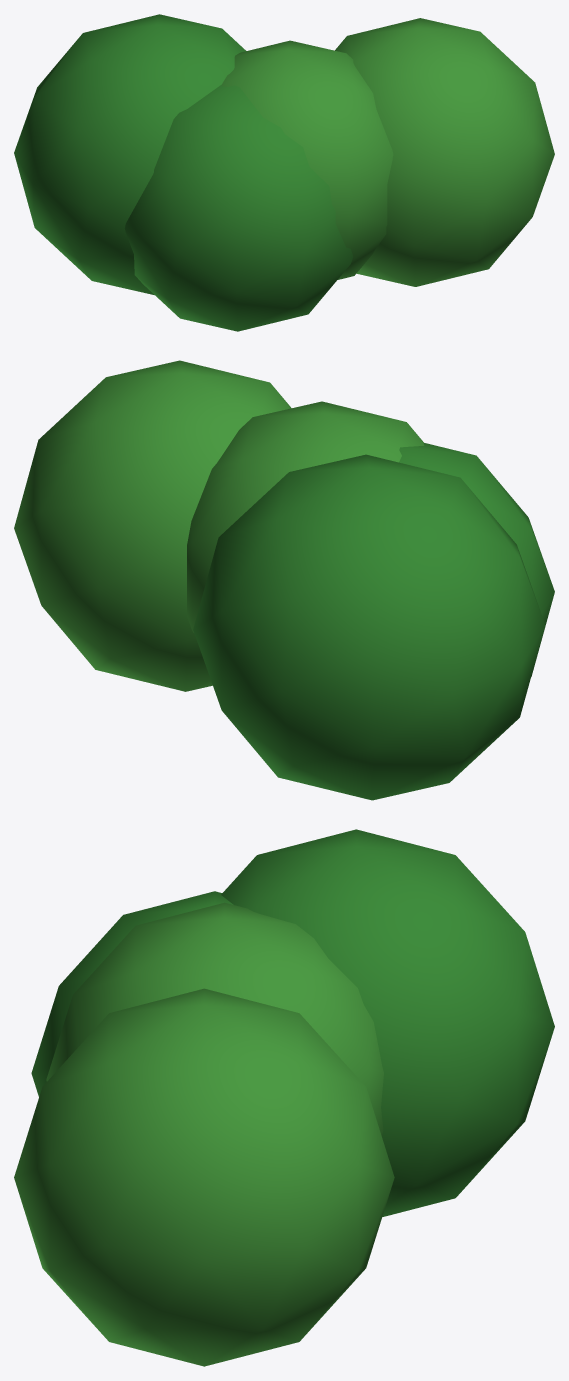
File: bush.glb
The picture shows the model from 3 angles, top to bottom: view 1: azimuth 30°, elevation 25°; view 2: azimuth 150°, elevation 25°; view 3: azimuth 270°, elevation 25°; orthographic projection. The views are drawn at different scales.
Visible parts, largest first — view 1: farm_bush; view 2: farm_bush; view 3: farm_bush.
Part boxes in pixels (x1,y1,x2,y2): farm_bush: (14, 14, 554, 331); farm_bush: (14, 360, 554, 800); farm_bush: (14, 829, 554, 1366).
Bounding box in the file's own units: 1.9 × 1.08 × 1.43.
